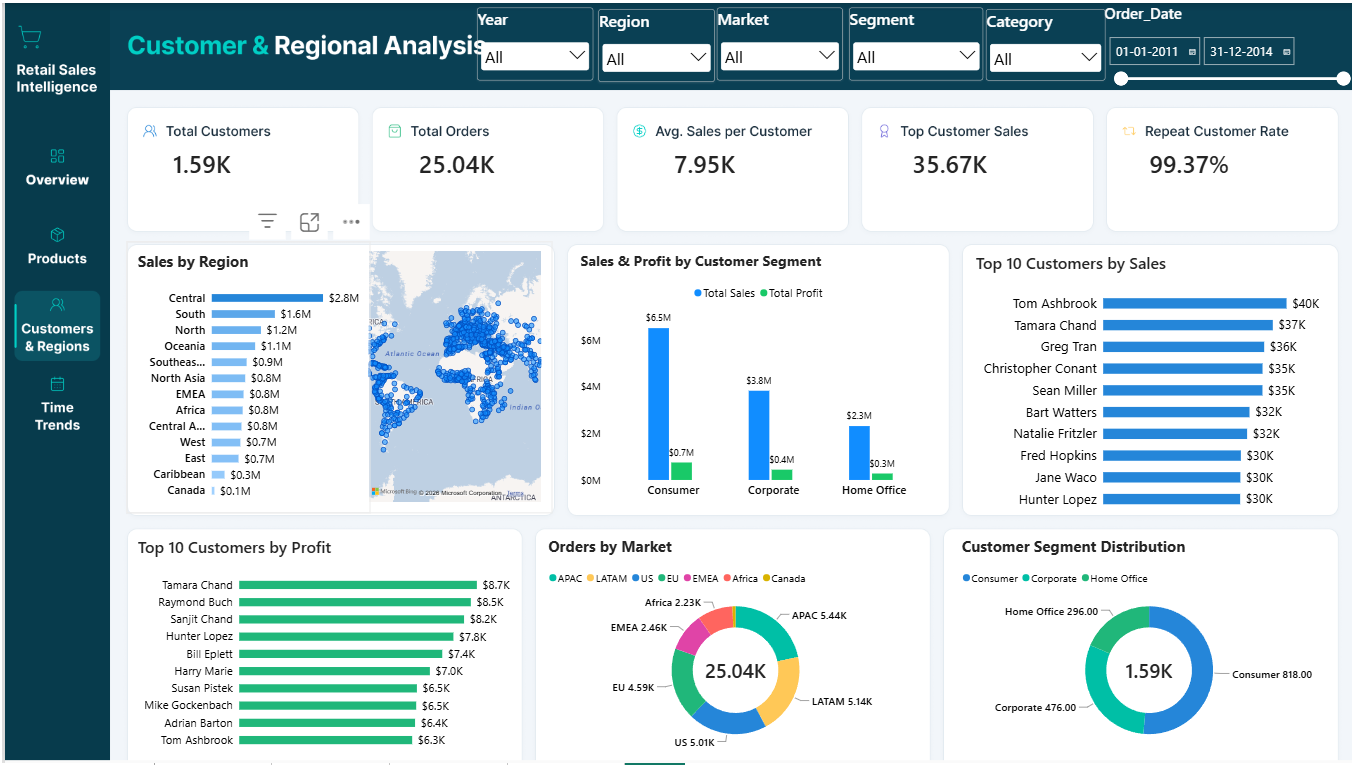

This screenshot's page, from the dashboard's own definition file:
{"tool":"powerbi","page":{"name":"Page 3","canvas":[1920,1080],"ordinal":2},"visuals":[{"type":"slicer","title":"Order_Date","fields":{"Values":["clean_global_superstore.Order_Date"]},"box":[1562.2,0,355.8,122.5],"z":0},{"type":"slicer","title":"Region","fields":{"Values":["clean_global_superstore.Region"]},"box":[843.2,7.8,164.9,103.7],"z":0,"group":"g1"},{"type":"slicer","title":"Year","fields":{"Values":["Calendar.Year"]},"box":[671.2,5.5,164.9,103.7],"z":1000,"group":"g1"},{"type":"cardVisual","fields":{"Data":["clean_global_superstore.Total Customers"]},"box":[223.9,193.2,181.4,70.7],"z":1000,"group":"g3"},{"type":"group","id":"g1","title":"Group 7","box":[671.2,5.5,893,106],"z":2000},{"type":"slicer","title":"Market","fields":{"Values":["clean_global_superstore.Market"]},"box":[1012.9,5.5,179.1,103.7],"z":2000,"group":"g1"},{"type":"slicer","title":"Segment","fields":{"Values":["clean_global_superstore.Segment"]},"box":[1199,5.5,190.9,103.7],"z":3000,"group":"g1"},{"type":"cardVisual","fields":{"Data":["clean_global_superstore.Avg Sales per Customer"]},"box":[935.5,193.2,181.4,70.7],"z":3000,"group":"g3"},{"type":"cardVisual","fields":{"Data":["clean_global_superstore.Top Customer Sales"]},"box":[1274.8,193.2,181.4,70.7],"z":4000,"group":"g3"},{"type":"cardVisual","fields":{"Data":["clean_global_superstore.Repeat Customer Rate"]},"box":[1611.8,193.2,181.4,70.7],"z":5000,"group":"g3"},{"type":"cardVisual","fields":{"Data":["clean_global_superstore.Total Orders"]},"box":[572.6,193.2,181.4,70.7],"z":6000,"group":"g3"},{"type":"group","id":"g2","title":"Group 1","box":[172,339.3,605.6,386.4],"z":7000},{"type":"clusteredColumnChart","title":"Sales & Profit by Customer Segment","fields":{"Category":["clean_global_superstore.Segment"],"Y":["clean_global_superstore.Total Sales","clean_global_superstore.Total Profit"]},"box":[801.2,339.3,542,386.4],"z":7001},{"type":"barChart","title":"Top 10 Customers by Sales","fields":{"Category":["clean_global_superstore.Customer_Name"],"Y":["clean_global_superstore.Total Sales"]},"box":[1364.3,339.3,534.9,402.9],"z":7002},{"type":"barChart","title":"Top 10 Customers by Profit","fields":{"Category":["clean_global_superstore.Customer_Name"],"Y":["clean_global_superstore.Total Profit"]},"box":[172,742.2,565.5,337],"z":7003},{"type":"donutChart","title":"Orders by Market","fields":{"Category":["clean_global_superstore.Market"],"Y":["clean_global_superstore.Total Orders"]},"box":[756.9,742.1,564,338.4],"z":7004},{"type":"donutChart","title":"Customer Segment Distribution","fields":{"Category":["clean_global_superstore.Segment"],"Y":["clean_global_superstore.Total Customers"]},"box":[1344.7,742.1,564,338.4],"z":7005},{"type":"group","id":"g3","title":"Group 2","box":[223.9,193.2,1569.3,70.7],"z":7006},{"type":"shape","box":[0,306,148.4,99],"z":7007},{"type":"shape","box":[0,515.8,148.4,99],"z":7008},{"type":"shape","box":[0,192.3,148.4,99],"z":7009},{"type":"map","fields":{"Category":["clean_global_superstore.State"]},"box":[499.5,339.3,278.1,385.7],"z":12000,"group":"g2"},{"type":"slicer","title":"Category","fields":{"Values":["clean_global_superstore.Category"]},"box":[1394.6,7.8,169.6,101.4],"z":15000,"group":"g1"},{"type":"clusteredBarChart","title":"Sales by Region","fields":{"Category":["clean_global_superstore.Region"],"Y":["clean_global_superstore.Total Sales"]},"box":[172,340.1,347,385.7],"z":15500,"group":"g2"}]}

Visuals, with their boxes on the page's 1920x1080 design canvas (x1, y1, x2, y2). These are canvas units, not pixel positions in the 1354x767 screenshot, which may show the page scaled, cropped or inside an application window:
"Order_Date" slicer: [1562, 0, 1918, 122]
"Region" slicer: [843, 8, 1008, 112]
"Year" slicer: [671, 6, 836, 109]
cardVisual - clean_global_superstore.Total Customers: [224, 193, 405, 264]
"Group 7" group: [671, 6, 1564, 112]
"Market" slicer: [1013, 6, 1192, 109]
"Segment" slicer: [1199, 6, 1390, 109]
cardVisual - clean_global_superstore.Avg Sales per Customer: [936, 193, 1117, 264]
cardVisual - clean_global_superstore.Top Customer Sales: [1275, 193, 1456, 264]
cardVisual - clean_global_superstore.Repeat Customer Rate: [1612, 193, 1793, 264]
cardVisual - clean_global_superstore.Total Orders: [573, 193, 754, 264]
"Group 1" group: [172, 339, 778, 726]
"Sales & Profit by Customer Segment" clusteredColumnChart: [801, 339, 1343, 726]
"Top 10 Customers by Sales" barChart: [1364, 339, 1899, 742]
"Top 10 Customers by Profit" barChart: [172, 742, 738, 1079]
"Orders by Market" donutChart: [757, 742, 1321, 1080]
"Customer Segment Distribution" donutChart: [1345, 742, 1909, 1080]
"Group 2" group: [224, 193, 1793, 264]
shape: [0, 306, 148, 405]
shape: [0, 516, 148, 615]
shape: [0, 192, 148, 291]
map - clean_global_superstore.State: [500, 339, 778, 725]
"Category" slicer: [1395, 8, 1564, 109]
"Sales by Region" clusteredBarChart: [172, 340, 519, 726]
